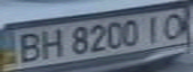0: (121, 16, 145, 47), (106, 19, 127, 49)
2: (87, 20, 109, 53)
8: (66, 24, 90, 56)
B: (9, 30, 45, 64)
H: (33, 27, 66, 61)
I: (139, 12, 169, 43)
O: (157, 9, 193, 39)
